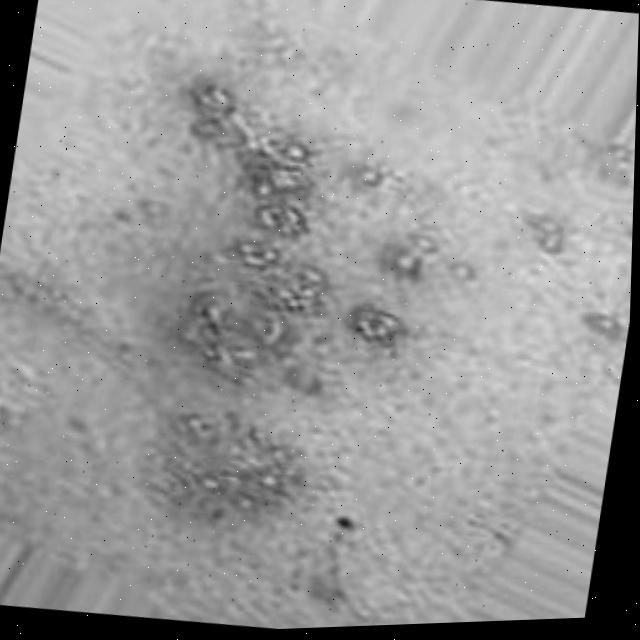Shingles: (137, 66, 439, 416), (142, 393, 319, 539)
